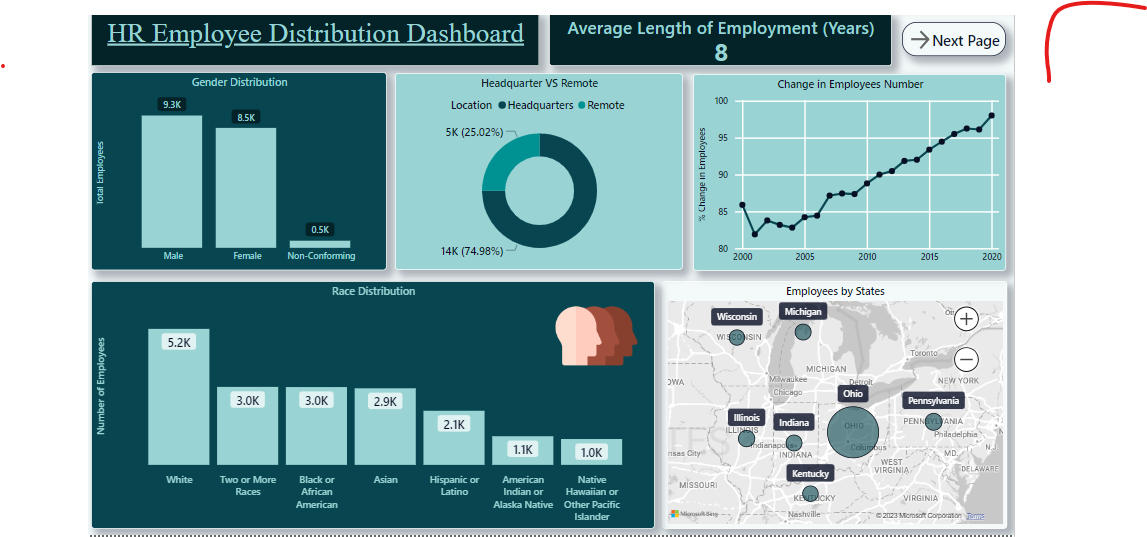

Layout of this report page (visuals, bound fields, positions):
{"tool":"powerbi","page":{"name":"Page 1","canvas":[1280,720],"ordinal":0},"visuals":[{"type":"textbox","box":[9.6,1.4,616.6,72.9],"z":0},{"type":"card","title":"Average Length of Employment (Years)","fields":{"Values":["Sum(avg length of employment.avg_length_of_employment_in_years)"]},"box":[640,1.4,472.1,72.9],"z":1000},{"type":"clusteredColumnChart","title":"Gender Distribution","fields":{"Category":["Gender-wise breakdown.gender"],"Y":["Sum(Gender-wise breakdown.total_employees)"]},"box":[10,82.9,407.1,272.9],"z":2000},{"type":"donutChart","title":"Headquarter VS Remote","fields":{"Y":["Sum(HQ vs remote location.total_employees)"],"Category":["HQ vs remote location.location"]},"box":[428.6,84.3,395.7,271.4],"z":3000},{"type":"lineChart","title":"Change in Employees Number","fields":{"Category":["employee change.year"],"Y":["Sum(employee change.net_change_percentage)"]},"box":[838.6,85.7,431.4,271.4],"z":4000},{"type":"map","title":"Employees by States","fields":{"Category":["emp distribution by state.location_state"],"Size":["Sum(emp distribution by state.total_employee)"]},"box":[795,370,475,341.2],"z":5000},{"type":"clusteredColumnChart","title":"Race Distribution","fields":{"Category":["race-wise breakdown.race"],"Y":["Sum(race-wise breakdown.total_employees)"]},"box":[10,370,776.2,341.2],"z":6000},{"type":"image","box":[640,383.8,131.2,122.5],"z":8000},{"type":"actionButton","box":[1125.8,13.8,143.1,46.8],"z":8001}]}

Visuals, with their boxes on the page's 1280x720 design canvas (x1, y1, x2, y2). These are canvas units, not pixel positions in the 1147x537 screenshot, which may show the page scaled, cropped or inside an application window:
textbox: [x1=10, y1=1, x2=626, y2=74]
"Average Length of Employment (Years)" card: [x1=640, y1=1, x2=1112, y2=74]
"Gender Distribution" clusteredColumnChart: [x1=10, y1=83, x2=417, y2=356]
"Headquarter VS Remote" donutChart: [x1=429, y1=84, x2=824, y2=356]
"Change in Employees Number" lineChart: [x1=839, y1=86, x2=1270, y2=357]
"Employees by States" map: [x1=795, y1=370, x2=1270, y2=711]
"Race Distribution" clusteredColumnChart: [x1=10, y1=370, x2=786, y2=711]
image: [x1=640, y1=384, x2=771, y2=506]
actionButton: [x1=1126, y1=14, x2=1269, y2=61]
